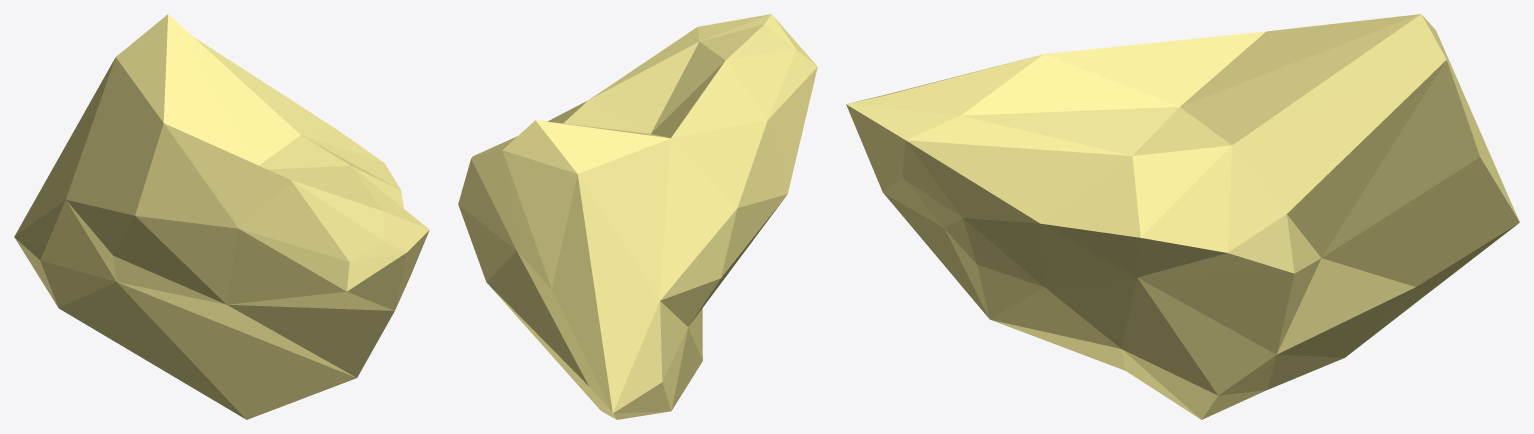
The model's file is Hill_011.glb.
The picture shows the model from 3 angles, left to right: view 1: azimuth 30°, elevation 25°; view 2: azimuth 150°, elevation 25°; view 3: azimuth 270°, elevation 25°; orthographic projection. The views are drawn at different scales.
Parts seen in each view (by area): view 1: Hill_011; view 2: Hill_011; view 3: Hill_011.
Boxes of the visible parts, x1,y1,x2,y2 form: Hill_011: (14, 14, 429, 419); Hill_011: (458, 14, 817, 419); Hill_011: (846, 14, 1519, 419).
Bounding box in the file's own units: 0.6787 × 0.762 × 1.22.
Materials: 1 (1 with a texture image).
